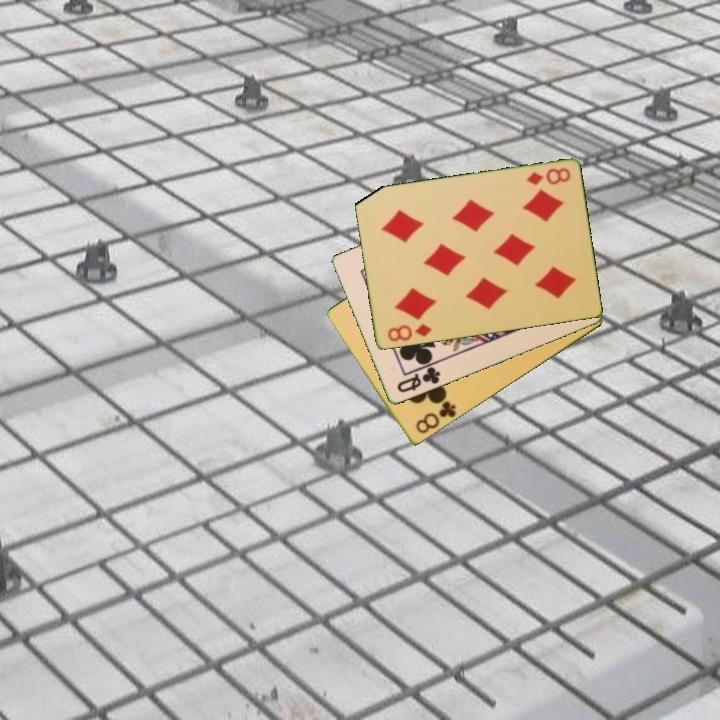8c: (412, 394, 459, 437)
8d: (384, 320, 434, 345), (522, 164, 573, 188)
Qc: (393, 363, 443, 396)
